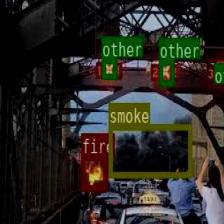fire: (81, 154, 107, 189)
smoke: (108, 123, 191, 177)
